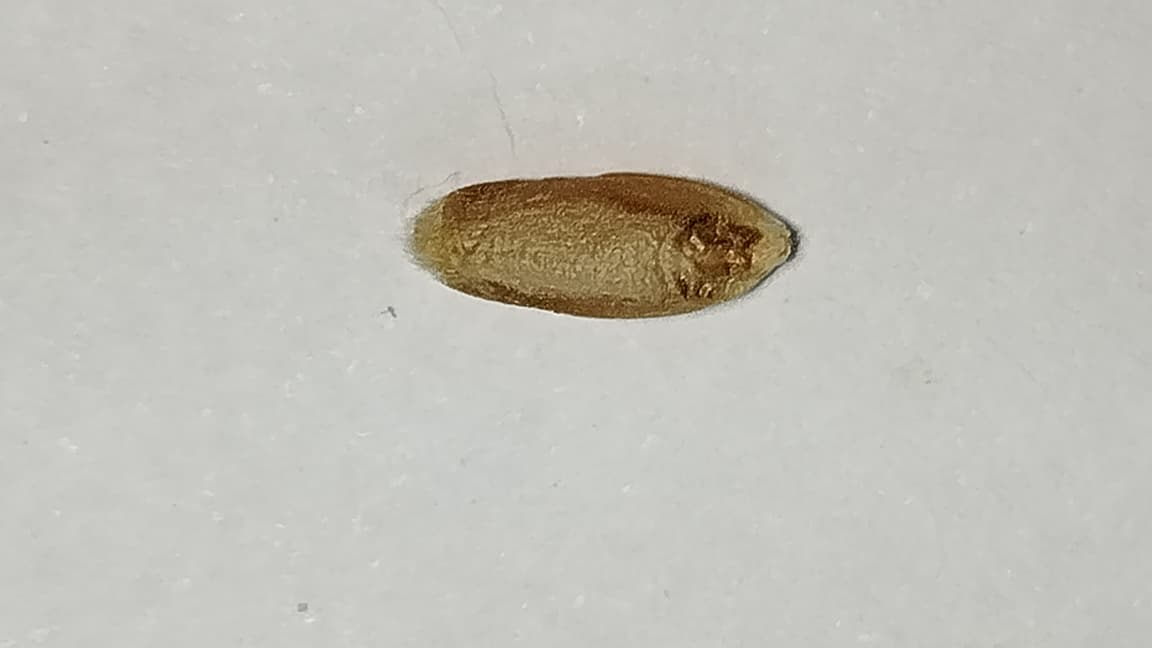black_point: (662, 208, 770, 300)
healthy: (419, 174, 790, 318)
